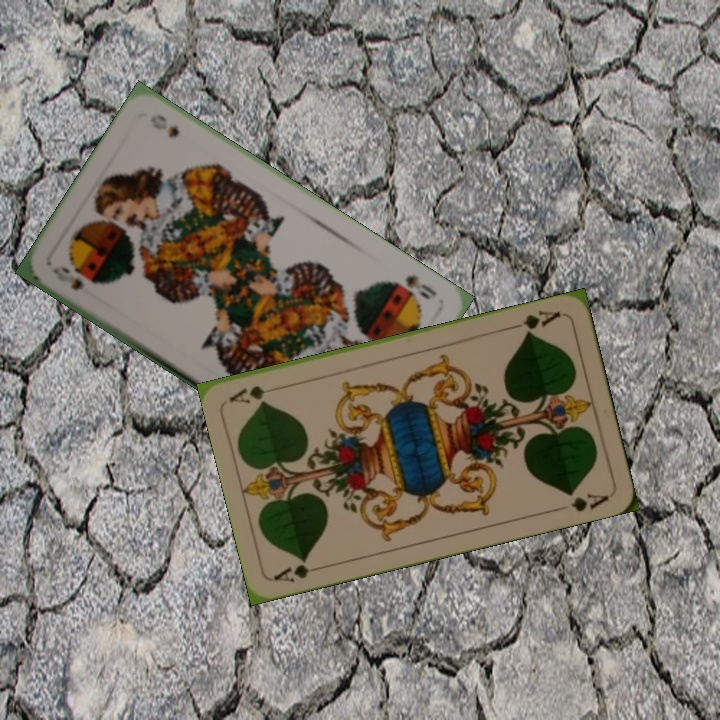GA: (269, 555, 328, 586), (506, 306, 564, 337)
SO: (389, 270, 440, 303), (48, 261, 86, 293)
